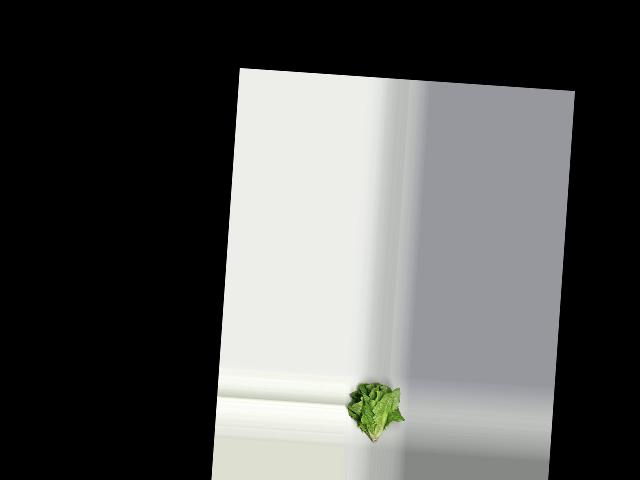lettuce: (345, 377, 401, 446)
